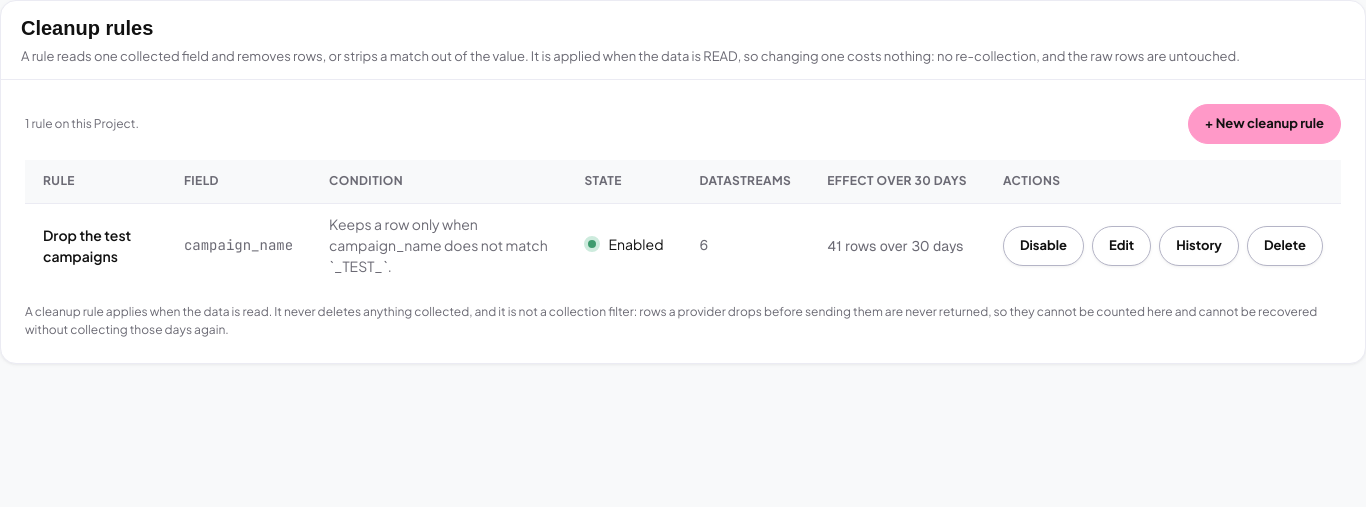
it: the recorded history of a cleanup rule › says « could not be read » when the ledger failed, and lists nothing
Click the button with test id "history-crule_1" at [1199, 246], box left=1159, top=226, right=1239, bottom=266
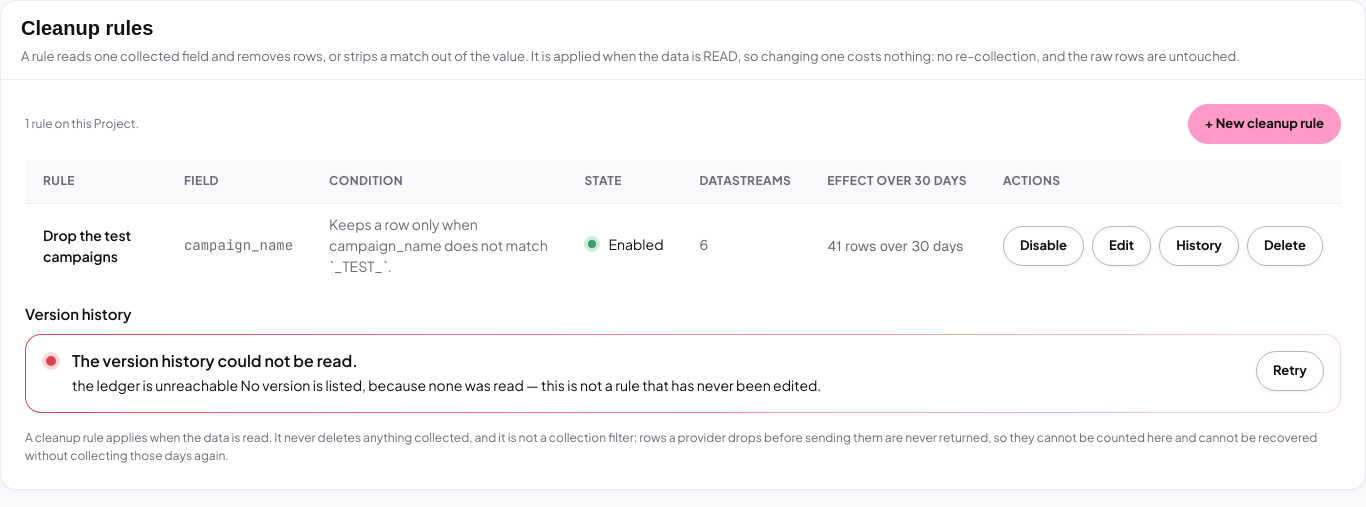
Now the text "The version history could not be read." is shown, box left=72, top=350, right=358, bottom=370
